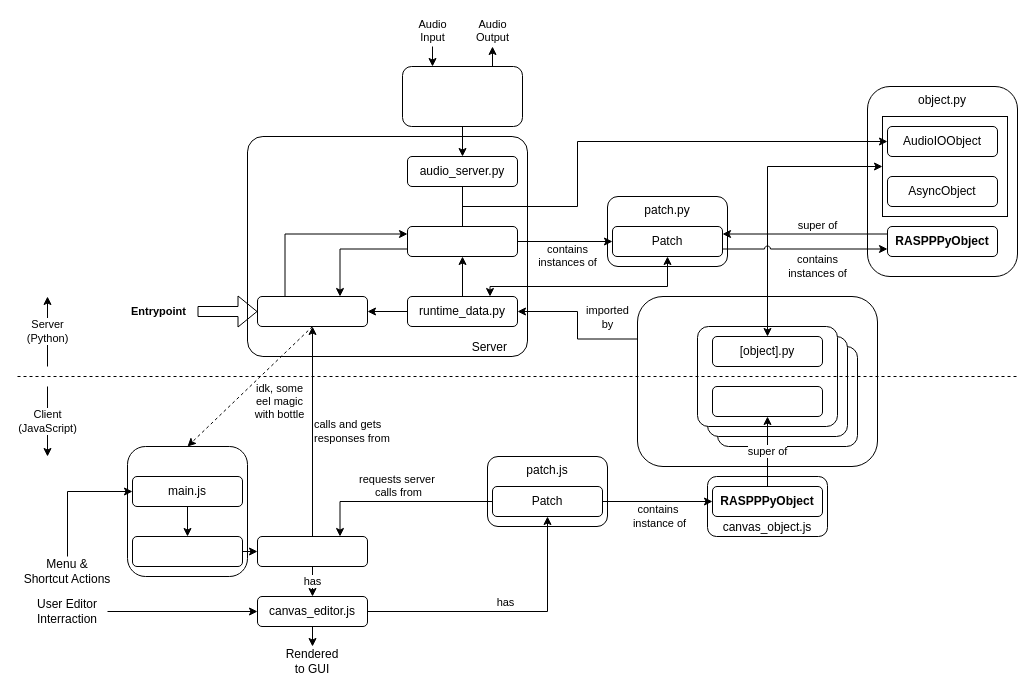
Image size: 1036x693. Some labels were removed from this diagram. The box of each missing label's shape, as (x1, y1, x2, y2) in pixels:
[object].js: (712, 386, 822, 416)
electron entrypoint: (126, 446, 248, 576)
main.py: (256, 296, 368, 326)
Object Library (internals/externals): (636, 296, 878, 466)
PortAudio (via sounddevice): (402, 66, 522, 126)
preload.js: (132, 536, 242, 566)
runtime.js: (256, 536, 368, 566)
runtime.py: (406, 226, 518, 256)
